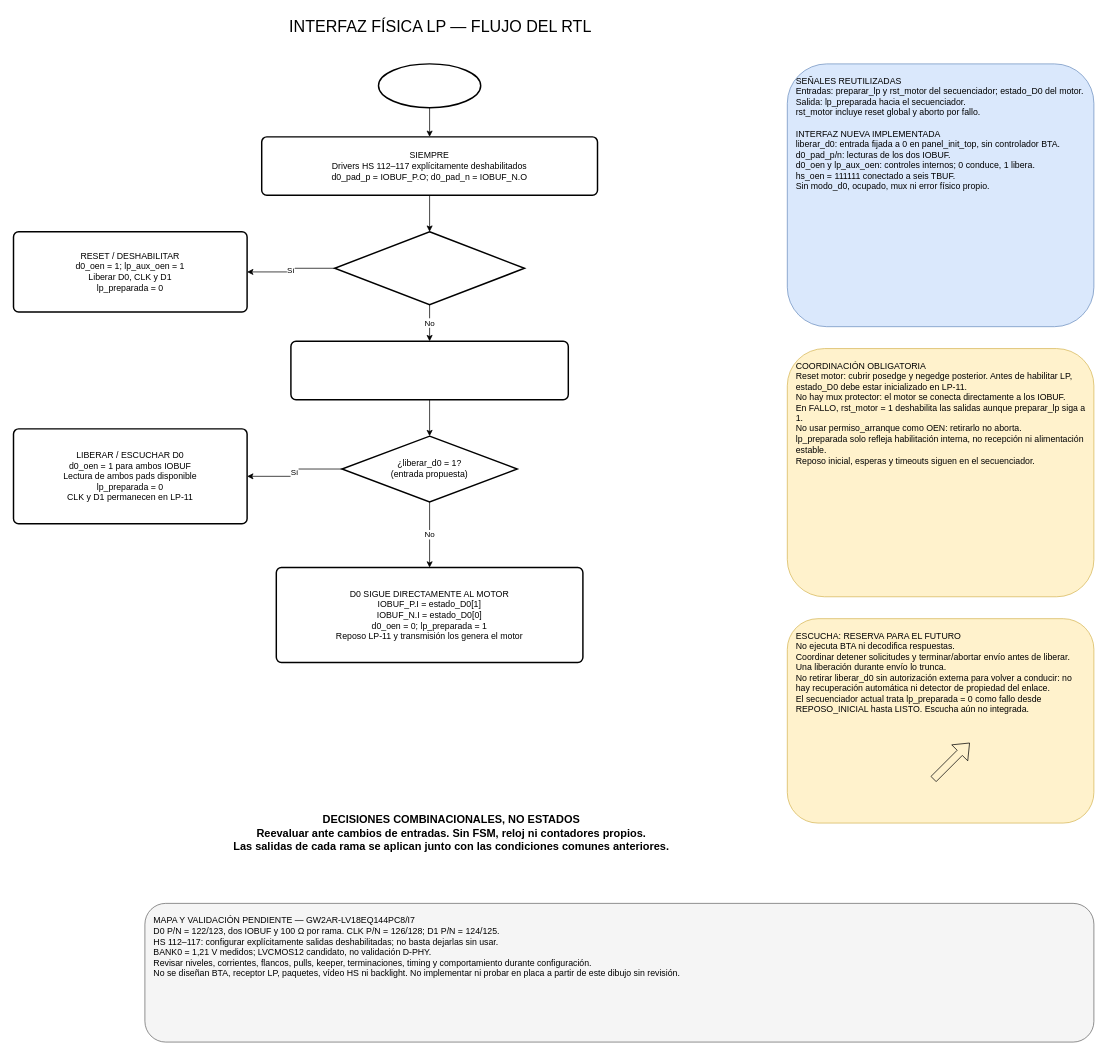
The diagram is 1107 pixels wide and 1055 high, and some of its shapes have lost their labels. The shapes that lost their labels are listed below. From the top down, each one's centre as x and y in pixels, then its label:
At (429,85): "INTERFAZ LP".
At (429,268): "¿rst_motor = 1 o preparar_lp = 0?".
At (429,370): "HABILITAR CLK Y D1 EN LP Datos CLK_P/N = 11; datos D1_P/N = 11 lp_aux_oen = 0".
